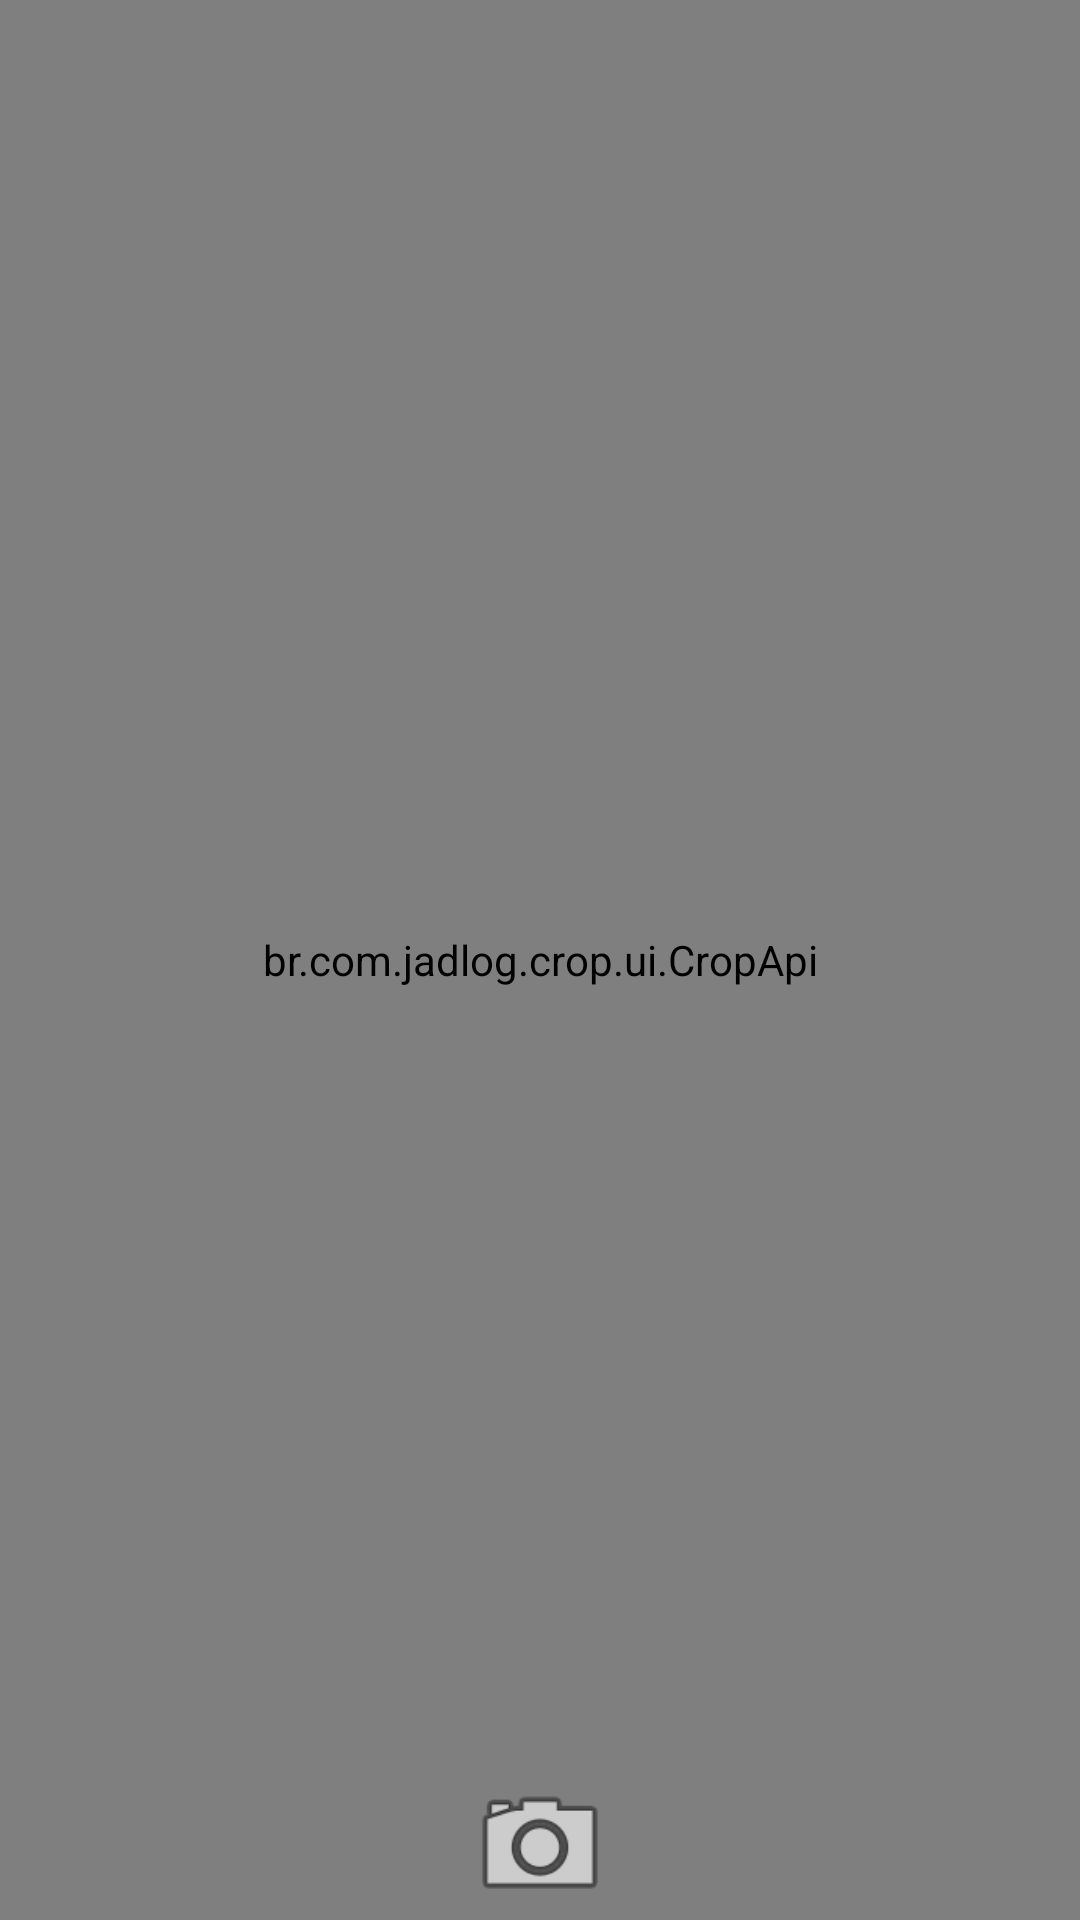

Named icons in this screenshot (1080 x 1920) and their bounding boxes, (x1, y1, x2, y2):
camera: (482, 1797, 598, 1888)
